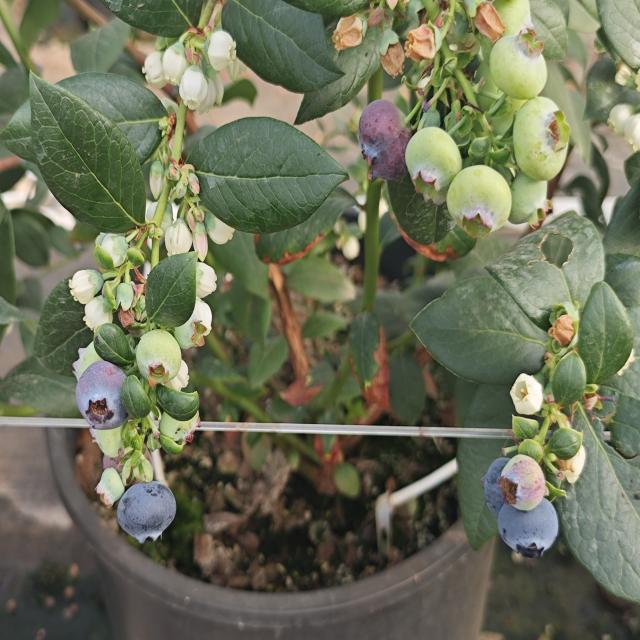ripe: (108, 472, 182, 543), (354, 93, 411, 182), (496, 498, 566, 562), (73, 356, 129, 430), (476, 456, 524, 508)
